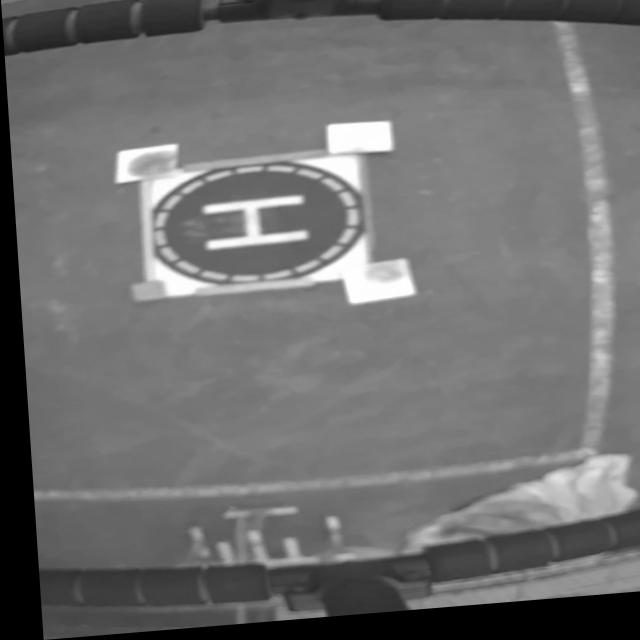Helipad: (198, 200, 305, 253)
